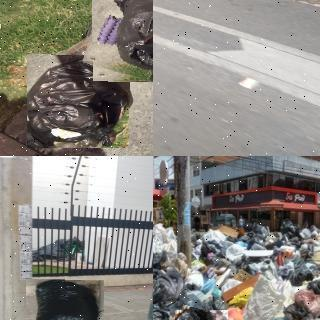Garbage: (27, 55, 130, 148), (86, 0, 153, 88), (25, 279, 104, 320), (239, 272, 289, 320), (153, 271, 183, 304), (172, 307, 230, 320), (293, 288, 320, 315), (282, 300, 316, 320)
